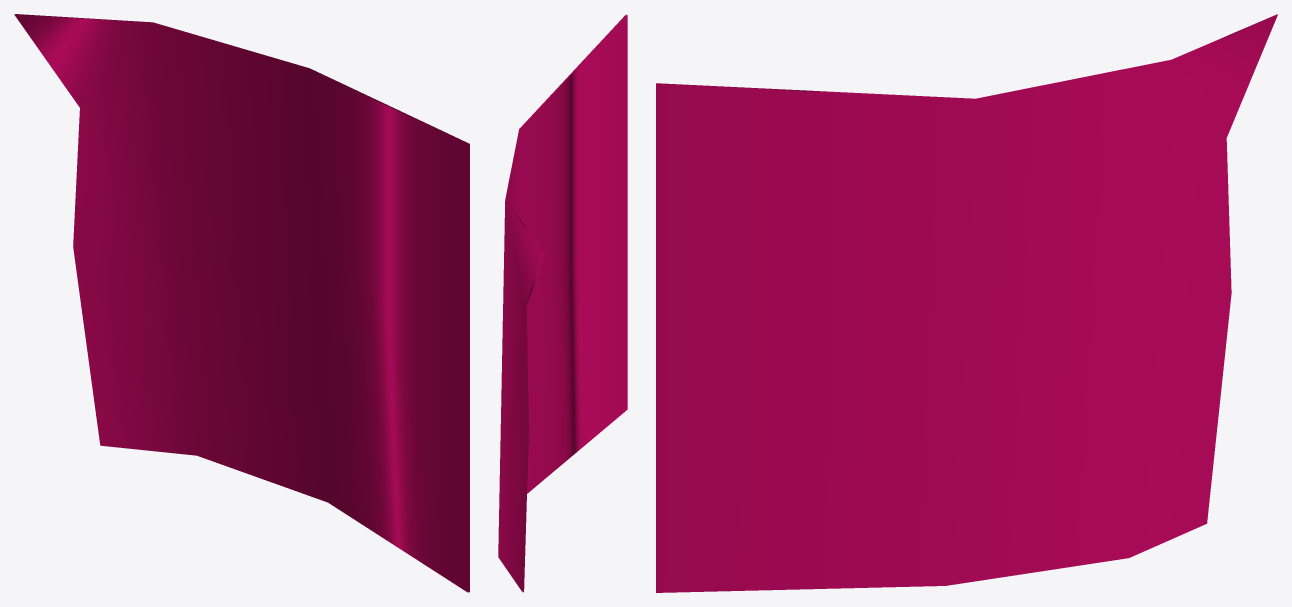
The model's file is Fence_03_Break_Grid.fbx.
3 renders of one model, left to right at view 1: azimuth 30°, elevation 25°; view 2: azimuth 150°, elevation 25°; view 3: azimuth 270°, elevation 25°, orthographic. The views are drawn at different scales.
Visible parts, largest first — view 1: Fence_03_Break_Grid; view 2: Fence_03_Break_Grid; view 3: Fence_03_Break_Grid.
Boxes of the visible parts, x1,y1,x2,y2 form: Fence_03_Break_Grid: (14,14,469,592); Fence_03_Break_Grid: (498,14,627,592); Fence_03_Break_Grid: (656,14,1277,592).
Size of the model in its own units: 108 by 256 by 283.
